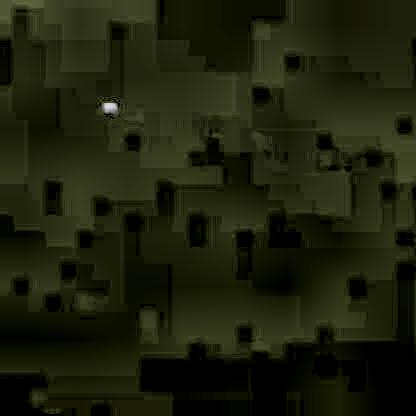golfball: (100, 98, 116, 114)
